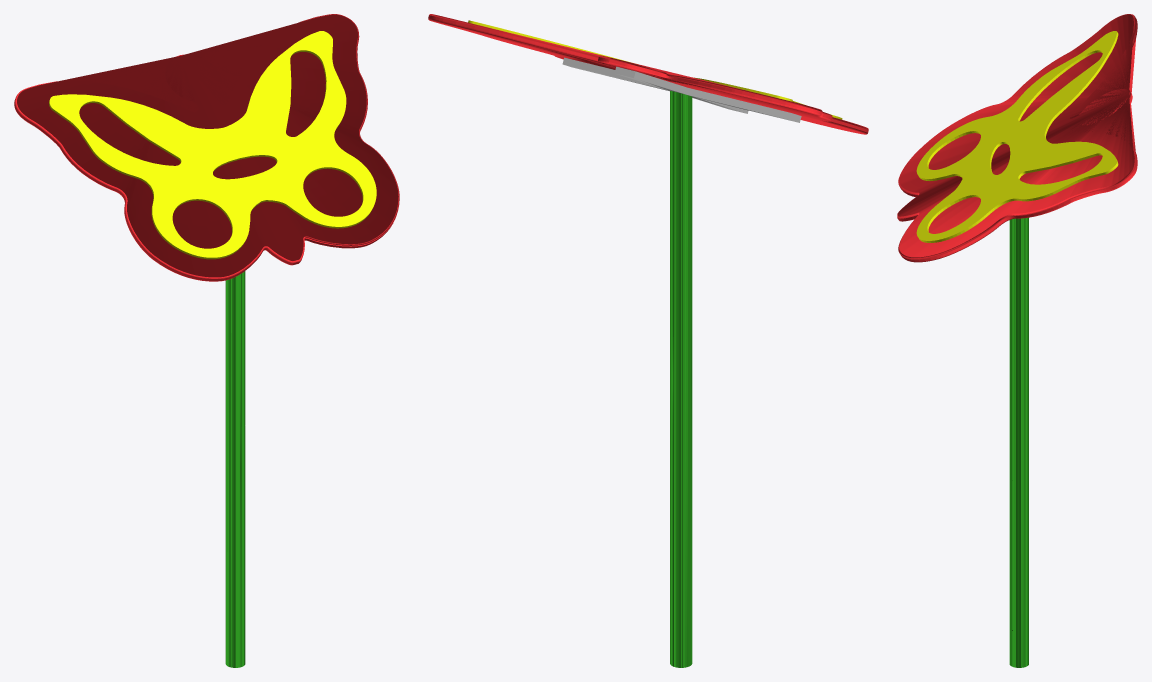
3 views of the same model, side by side, from view 1: azimuth 30°, elevation 25°; view 2: azimuth 150°, elevation 25°; view 3: azimuth 270°, elevation 25° (orthographic). The views are drawn at different scales.
Visible parts, largest first — view 1: D_71; view 2: D_71; view 3: D_71.
Part boxes in pixels (box(x1,y1,x2,y2)): D_71: box(14, 14, 399, 667); D_71: box(428, 14, 868, 667); D_71: box(897, 14, 1137, 667).
Bounding box in the file's own units: 120 × 193 × 73.51.
